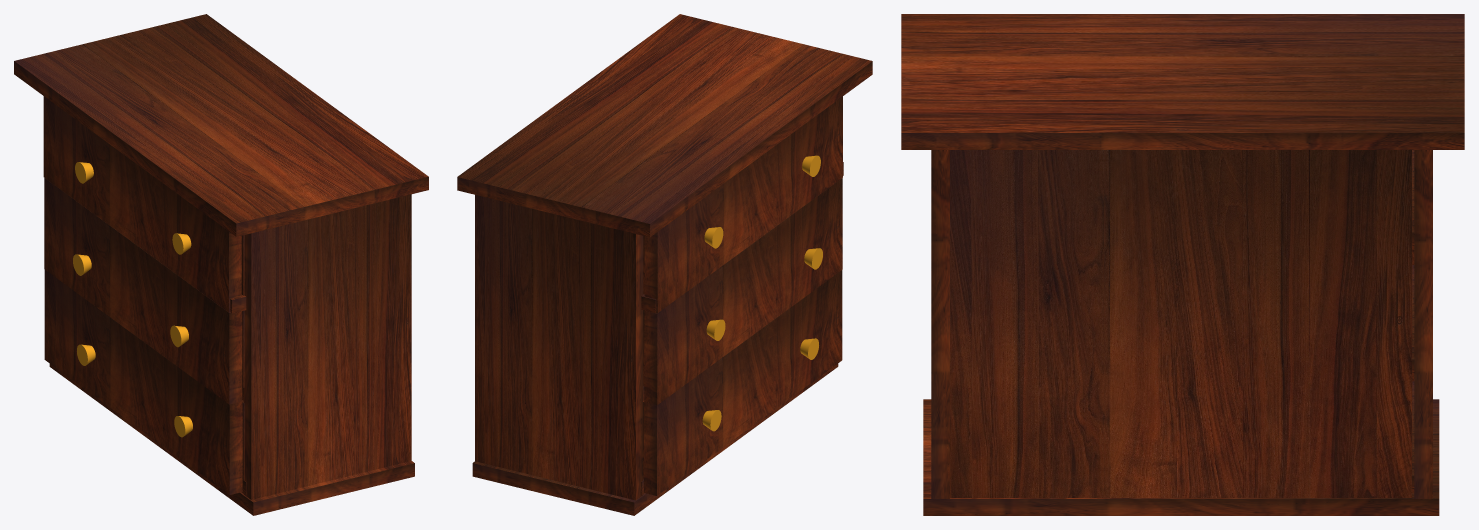
File: cabinet1.FBX
3 renders of one model, left to right at view 1: azimuth 30°, elevation 25°; view 2: azimuth 150°, elevation 25°; view 3: azimuth 270°, elevation 25°, orthographic. The views are drawn at different scales.
Visible parts, largest first — view 1: Box001, Box004, Box008, Box010, Box011, Box002; view 2: Box001, Box003, Box008, Box010, Box011, Box002; view 3: Box005, Box001, Box002, Box003, Box004.
Part boxes in pixels (box(x1,y1,x2,y2)): Box001: box(14, 14, 428, 236); Box004: box(243, 194, 411, 499); Box008: box(44, 178, 242, 404); Box010: box(44, 270, 242, 494); Box011: box(43, 96, 241, 312); Box002: box(49, 364, 414, 515); Box001: box(457, 14, 872, 237); Box003: box(475, 195, 643, 500); Box008: box(644, 178, 842, 404); Box010: box(644, 270, 842, 495); Box011: box(644, 96, 842, 313); Box002: box(472, 363, 838, 515); Box005: box(950, 150, 1411, 497); Box001: box(901, 14, 1464, 149); Box002: box(923, 399, 1439, 515); Box003: box(1414, 150, 1432, 498); Box004: box(931, 150, 949, 498).
Size of the model in its own units: 30.45 by 45.42 by 60.
Materials: 2 (1 with a texture image).
